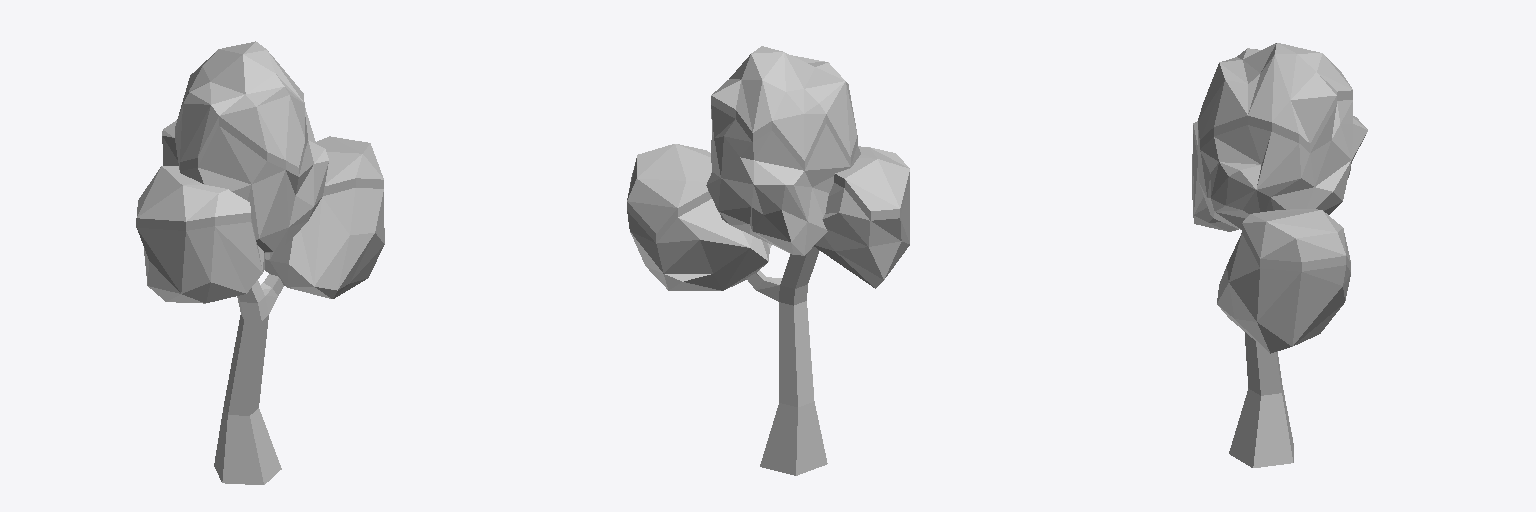
File: tree01snow.obj
3 renders of one model, left to right at view 1: azimuth 30°, elevation 25°; view 2: azimuth 150°, elevation 25°; view 3: azimuth 270°, elevation 25°, orthographic.
Parts seen in each view (by area): view 1: SM_Env_Tree_01_Snow_Mesh.001; view 2: SM_Env_Tree_01_Snow_Mesh.001; view 3: SM_Env_Tree_01_Snow_Mesh.001.
Part boxes in pixels (bbox=[...]): SM_Env_Tree_01_Snow_Mesh.001: bbox=[136, 41, 384, 484]; SM_Env_Tree_01_Snow_Mesh.001: bbox=[627, 46, 909, 475]; SM_Env_Tree_01_Snow_Mesh.001: bbox=[1192, 43, 1367, 467].
Bounding box in the file's own units: 2.32 × 3.63 × 1.41.